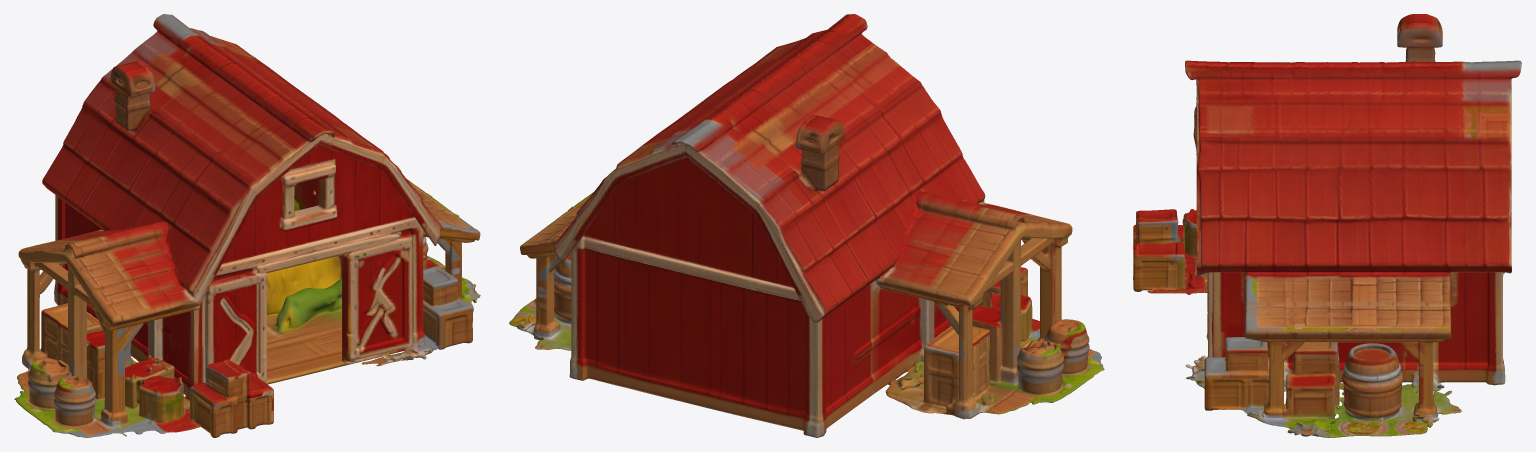
Rendered from barn.glb.
3 renders of one model, left to right at view 1: azimuth 30°, elevation 25°; view 2: azimuth 150°, elevation 25°; view 3: azimuth 270°, elevation 25°, orthographic. The views are drawn at different scales.
Parts seen in each view (by area): view 1: tripo_node_f3ea4215-c3e6-476c-b2b4-de503b8fb152; view 2: tripo_node_f3ea4215-c3e6-476c-b2b4-de503b8fb152; view 3: tripo_node_f3ea4215-c3e6-476c-b2b4-de503b8fb152.
Boxes of the visible parts, <box> form: tripo_node_f3ea4215-c3e6-476c-b2b4-de503b8fb152: <box>14,14,480,437</box>; tripo_node_f3ea4215-c3e6-476c-b2b4-de503b8fb152: <box>509,14,1104,437</box>; tripo_node_f3ea4215-c3e6-476c-b2b4-de503b8fb152: <box>1133,14,1521,437</box>.
Size of the model in its own units: 1 by 0.5341 by 0.6902.
1 material, 1 textured.
